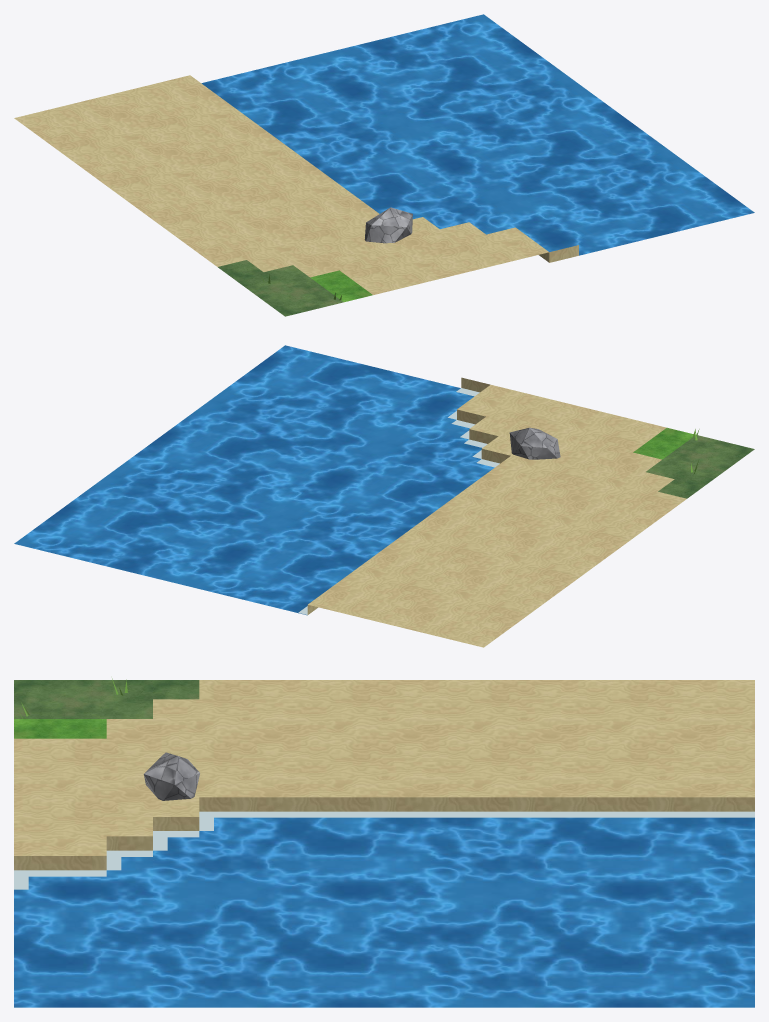
The model's file is chunk_11_14.glb.
The picture shows the model from 3 angles, top to bottom: view 1: azimuth 30°, elevation 25°; view 2: azimuth 150°, elevation 25°; view 3: azimuth 270°, elevation 25°; orthographic projection. The views are drawn at different scales.
Parts seen in each view (by area): view 1: chunk_11_14; view 2: chunk_11_14; view 3: chunk_11_14.
Boxes of the visible parts, <box> form: chunk_11_14: <box>14,14,754,316</box>; chunk_11_14: <box>14,345,754,647</box>; chunk_11_14: <box>14,678,754,1007</box>.
Size of the model in its own units: 16 by 1.35 by 16.
Materials: 7 (5 with a texture image).
